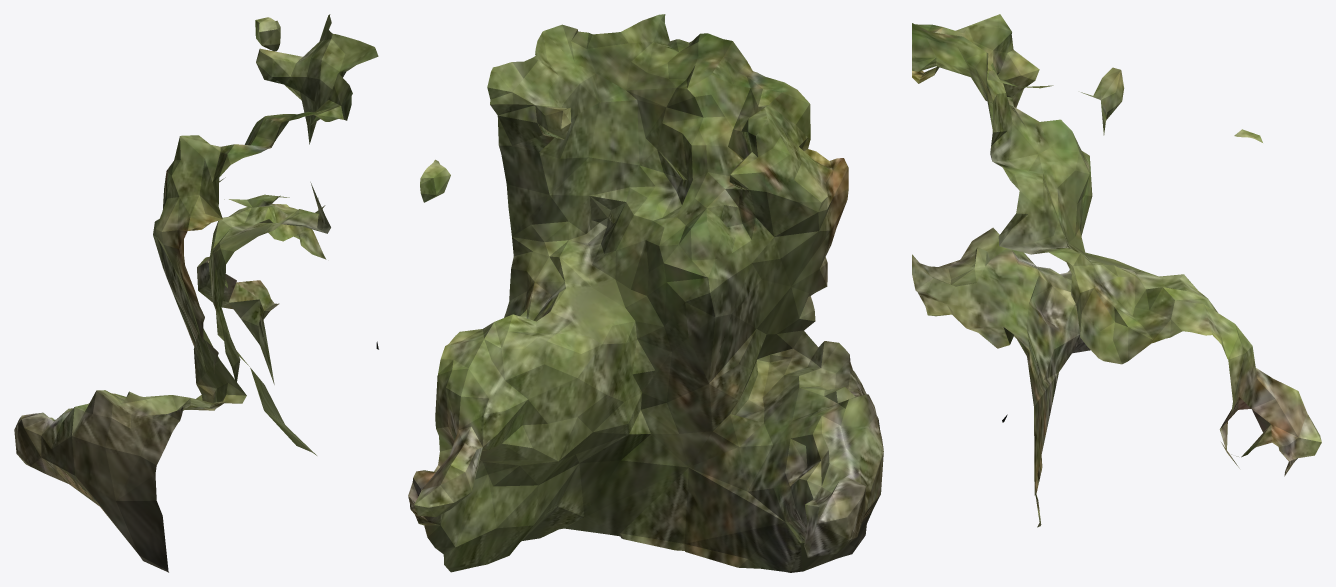
3 renders of one model, left to right at view 1: azimuth 30°, elevation 25°; view 2: azimuth 150°, elevation 25°; view 3: azimuth 270°, elevation 25°, orthographic. The views are drawn at different scales.
Bounding box in the file's own units: 2.32 × 2.95 × 2.24.
Materials: 3 (3 with a texture image).
